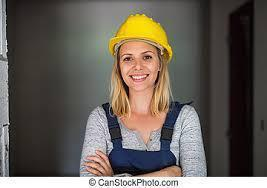helmet: (108, 14, 173, 61)
